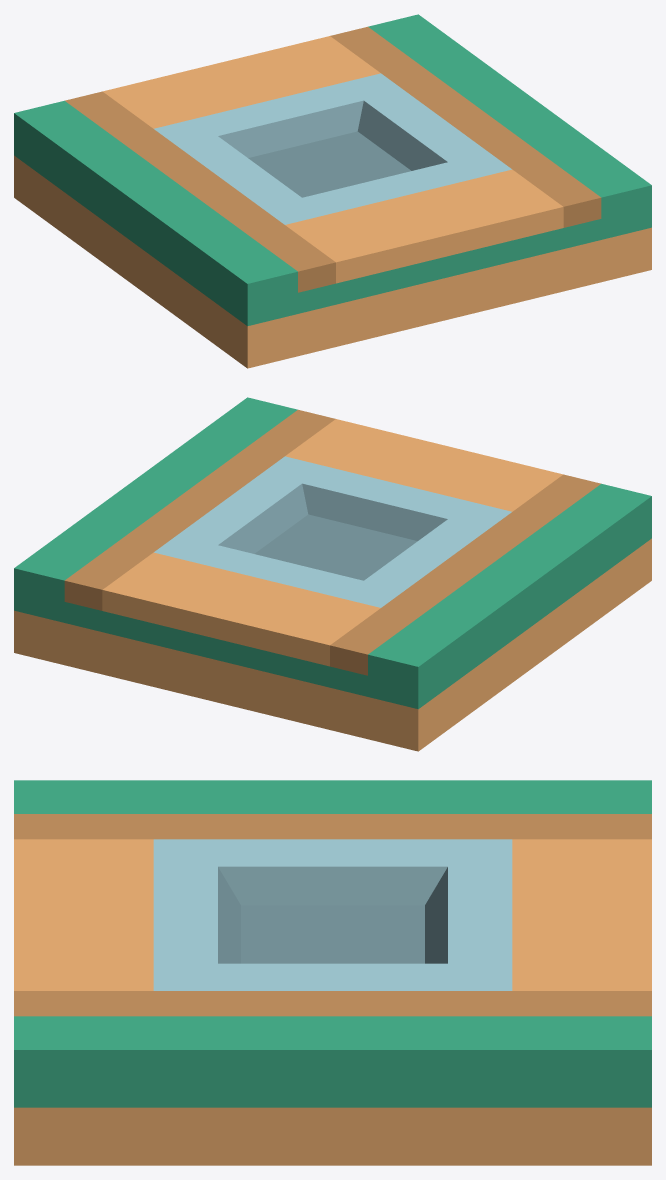
The model's file is tile_spawn(+).fbx.
3 views of the same model, one above another, from view 1: azimuth 30°, elevation 25°; view 2: azimuth 150°, elevation 25°; view 3: azimuth 270°, elevation 25° (orthographic). The views are drawn at different scales.
Parts seen in each view (by area): view 1: Mesh_3; view 2: Mesh_3; view 3: Mesh_3.
Boxes of the visible parts, <box> form: Mesh_3: <box>14,14,651,368</box>; Mesh_3: <box>14,397,651,751</box>; Mesh_3: <box>14,780,651,1165</box>.
Bounding box in the file's own units: 100 × 20 × 100.
